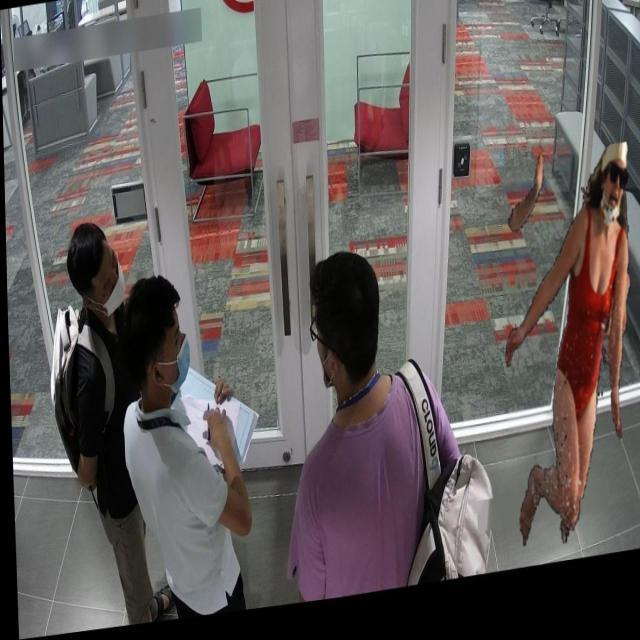hairnet: (598, 166, 626, 225)
